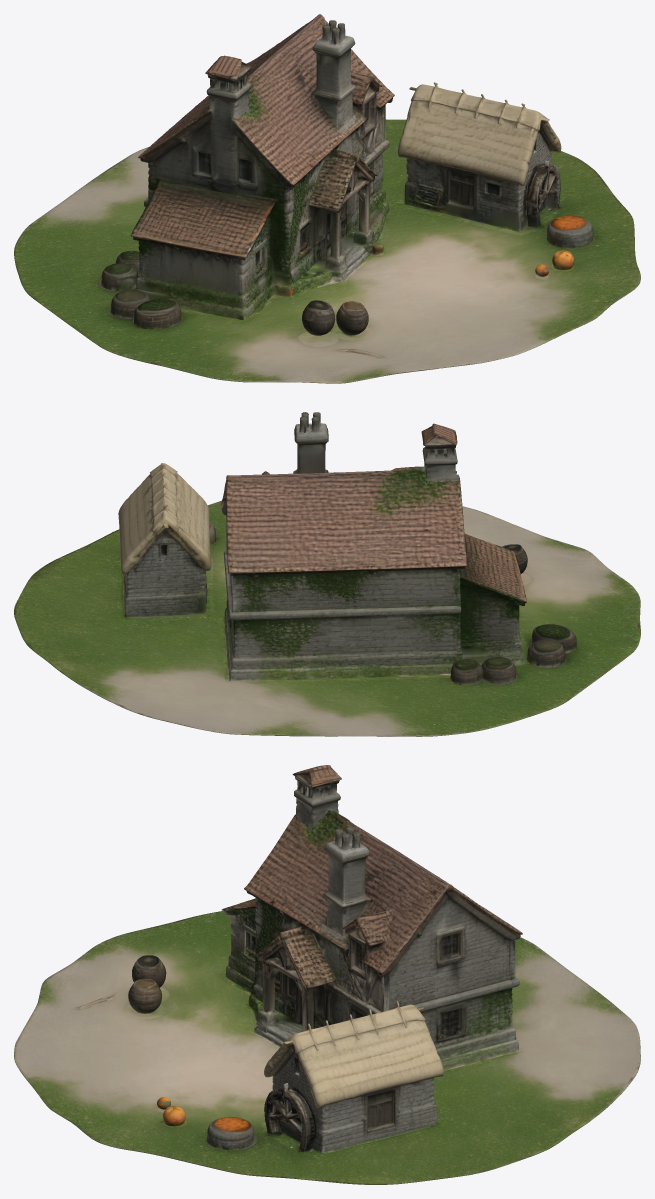
Rendered from Mapa1.glb.
3 views of the same model, one above another, from view 1: azimuth 30°, elevation 25°; view 2: azimuth 150°, elevation 25°; view 3: azimuth 270°, elevation 25° (orthographic). The views are drawn at different scales.
Parts seen in each view (by area): view 1: node_0; view 2: node_0; view 3: node_0.
Part boxes in pixels (x1,y1,x2,y2): node_0: [14, 14, 640, 383]; node_0: [14, 412, 640, 736]; node_0: [14, 765, 640, 1184].
Size of the model in its own units: 1.09 by 0.4172 by 1.04.
Materials: 1 (1 with a texture image).
